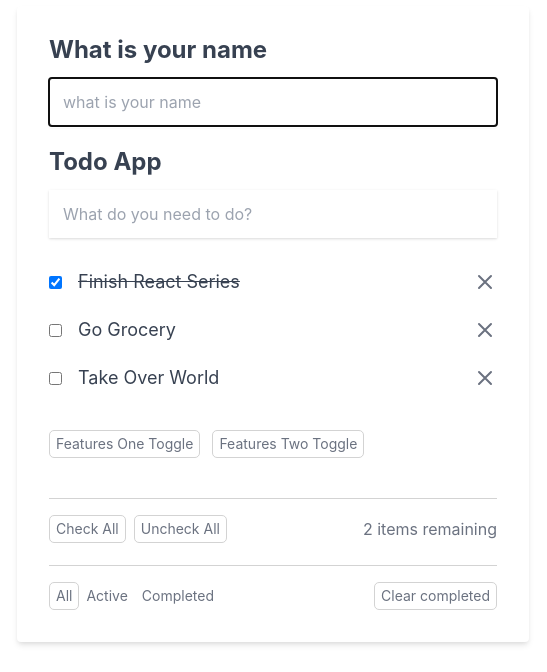
Scenario: can put  a todo to edit mode
The image size is (547, 672).
Step 1. Double-click the text "Finish React Series" → (159, 282), box left=78, top=273, right=240, bottom=291
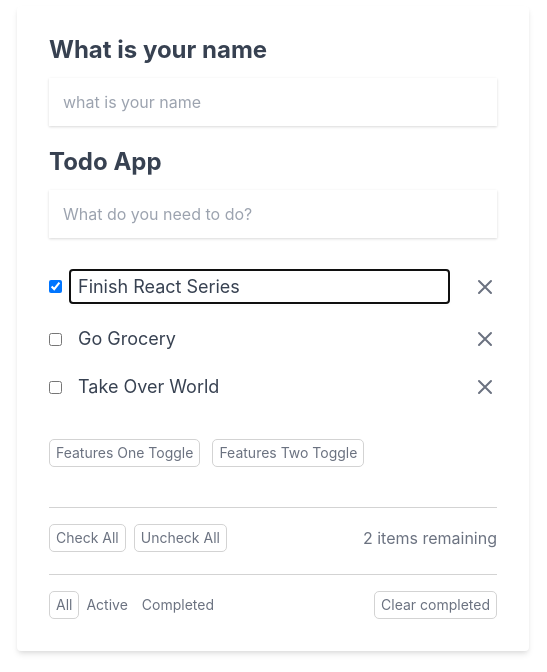
Expected: the field showing "Finish React Series" is shown, left=70, top=270, right=449, bottom=303
